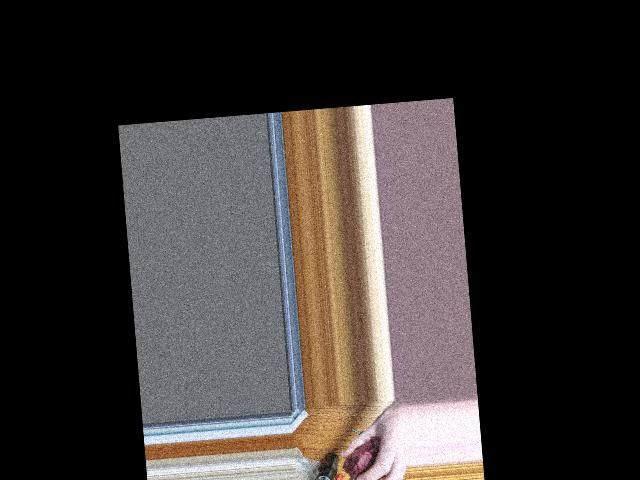onion: (344, 436, 385, 480)
